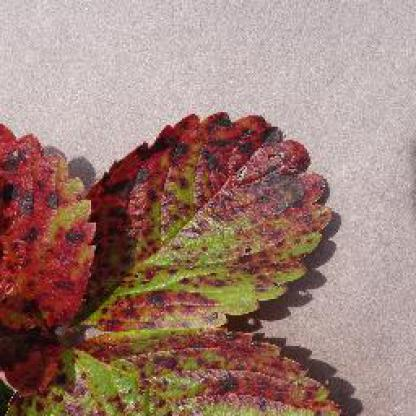leaf scorch: (2, 48, 364, 414)
